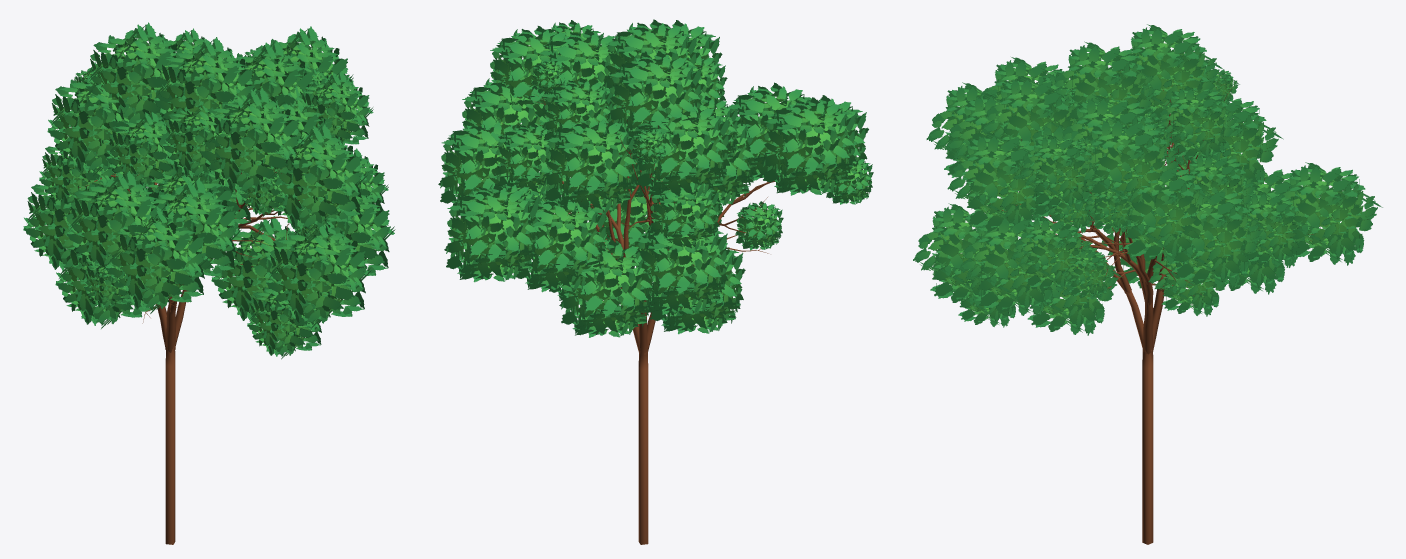
Rendered from MainTree.fbx.
3 views of the same model, side by side, from view 1: azimuth 30°, elevation 25°; view 2: azimuth 150°, elevation 25°; view 3: azimuth 270°, elevation 25° (orthographic).
Visible parts, largest first — view 1: Tree; view 2: Tree; view 3: Tree.
Part boxes in pixels (x1,y1,x2,y2): Tree: [23, 22, 395, 544]; Tree: [438, 19, 873, 544]; Tree: [913, 24, 1382, 544].
Bounding box in the file's own units: 1035 × 1431 × 1242.
Materials: 2 (1 with a texture image).
